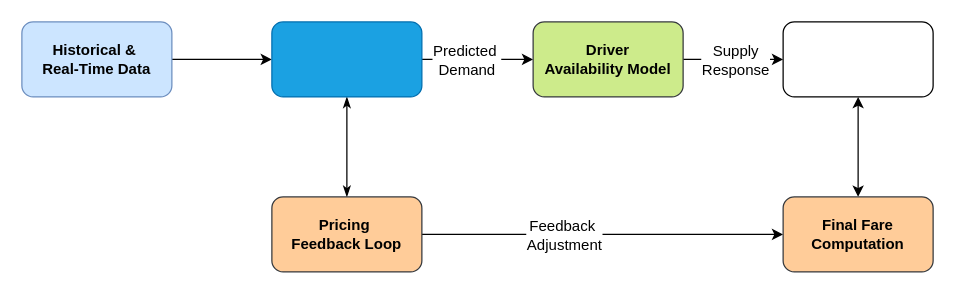
Image size: 955x294. Some labels were removed from this diagram. Here are the shapes that lost their labels. From the top down, the box of each, then its label:
(271, 21, 422, 97): Demand Prediction Model
(782, 21, 933, 97): Dynamic Pricing Engine
